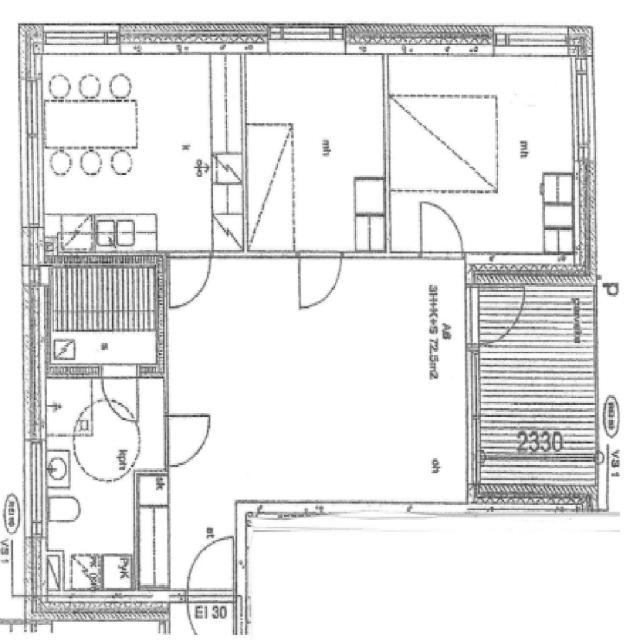door: (465, 287, 528, 343), (188, 537, 233, 603), (300, 253, 342, 308), (422, 204, 462, 260), (165, 416, 210, 465), (100, 364, 138, 421), (171, 253, 209, 305)
